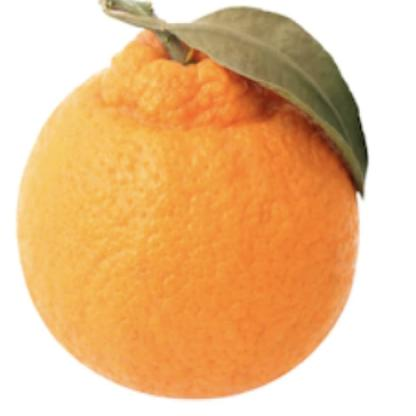fresh: (19, 30, 358, 394)
